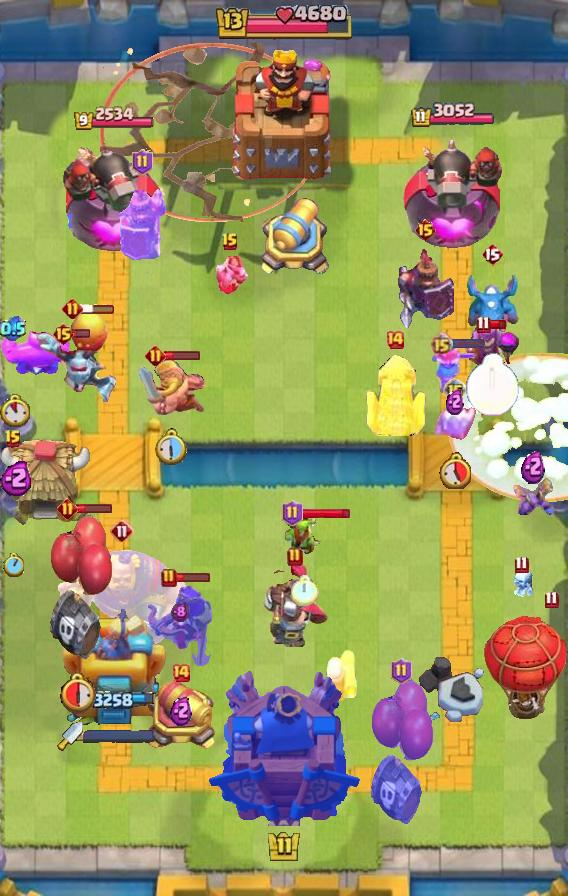bar: (62, 601, 166, 731)
barbarian-hut: (142, 583, 217, 669)
cannon-cart: (482, 614, 568, 722)
clock: (213, 5, 355, 43)
electro-spirit: (0, 459, 34, 497), (521, 448, 545, 483), (170, 695, 192, 726), (0, 316, 26, 342), (446, 387, 464, 415), (171, 601, 189, 623)
elixir: (464, 353, 519, 417), (60, 670, 100, 714), (155, 428, 189, 466), (439, 452, 471, 489), (0, 393, 30, 426), (291, 574, 319, 605), (4, 553, 25, 577)
elixir-golem-big: (396, 241, 454, 331), (115, 180, 169, 264)
elixir-golem-small: (33, 330, 119, 408)
emote: (301, 508, 352, 521), (80, 303, 116, 315), (75, 502, 113, 513), (164, 350, 201, 361), (450, 339, 486, 350), (175, 572, 211, 583), (489, 318, 508, 329), (72, 329, 91, 340)
goblin-brawler: (364, 352, 426, 436)
goblin-giant: (137, 359, 207, 417)
graveyard: (463, 269, 521, 345)
guard: (100, 42, 324, 221)
heal-spirit: (507, 568, 535, 602)
hog: (69, 311, 109, 355)
hog-rider: (430, 341, 478, 395)
king-tower: (207, 669, 361, 826), (229, 43, 339, 181)
king-tower-bar: (83, 729, 155, 743)
lightning: (54, 548, 190, 646)
mirror: (432, 402, 478, 444)
phoenix-big: (448, 354, 568, 503)
prince: (0, 438, 94, 528)
rascal-girl: (462, 320, 522, 374)
royal-delivery: (511, 477, 555, 523), (210, 253, 250, 295)
royal-recruit: (257, 192, 335, 282), (142, 677, 220, 753)
royal-recruit-evolution: (46, 514, 114, 664), (367, 679, 435, 829)
selected: (410, 102, 496, 129), (71, 686, 157, 712), (73, 106, 155, 132)
text: (414, 218, 438, 242), (443, 378, 467, 402), (110, 519, 134, 543), (131, 149, 153, 175), (52, 322, 75, 346), (430, 333, 454, 356), (282, 500, 303, 526), (392, 658, 413, 684), (481, 242, 503, 266), (62, 297, 83, 319), (146, 345, 167, 366), (57, 497, 78, 518), (385, 330, 405, 350), (171, 663, 191, 683), (221, 232, 239, 252), (4, 429, 22, 449), (287, 547, 303, 567), (161, 568, 177, 588), (477, 315, 492, 333), (515, 554, 529, 573), (545, 591, 559, 609)
tombstone: (317, 647, 359, 705)
tornado: (0, 328, 72, 378)
tower-bar: (401, 132, 508, 256), (63, 136, 165, 256)
wall-breaker-evolution: (261, 556, 329, 651)
zap: (285, 514, 325, 556)
